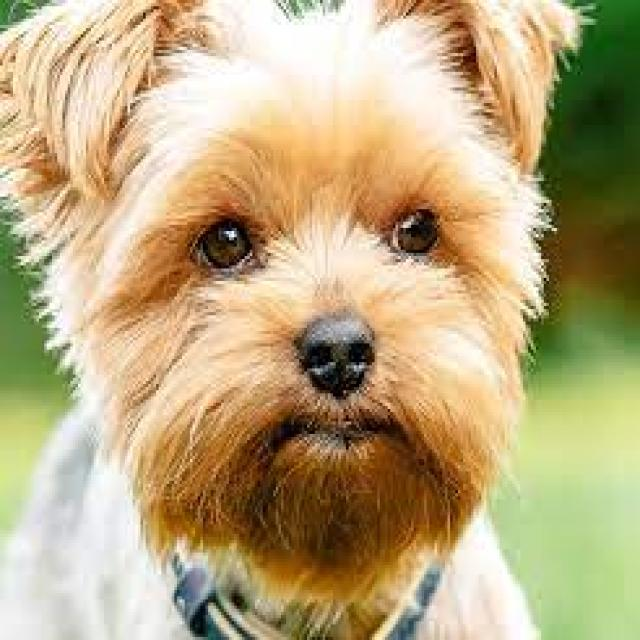Dog: (65, 0, 563, 567)
